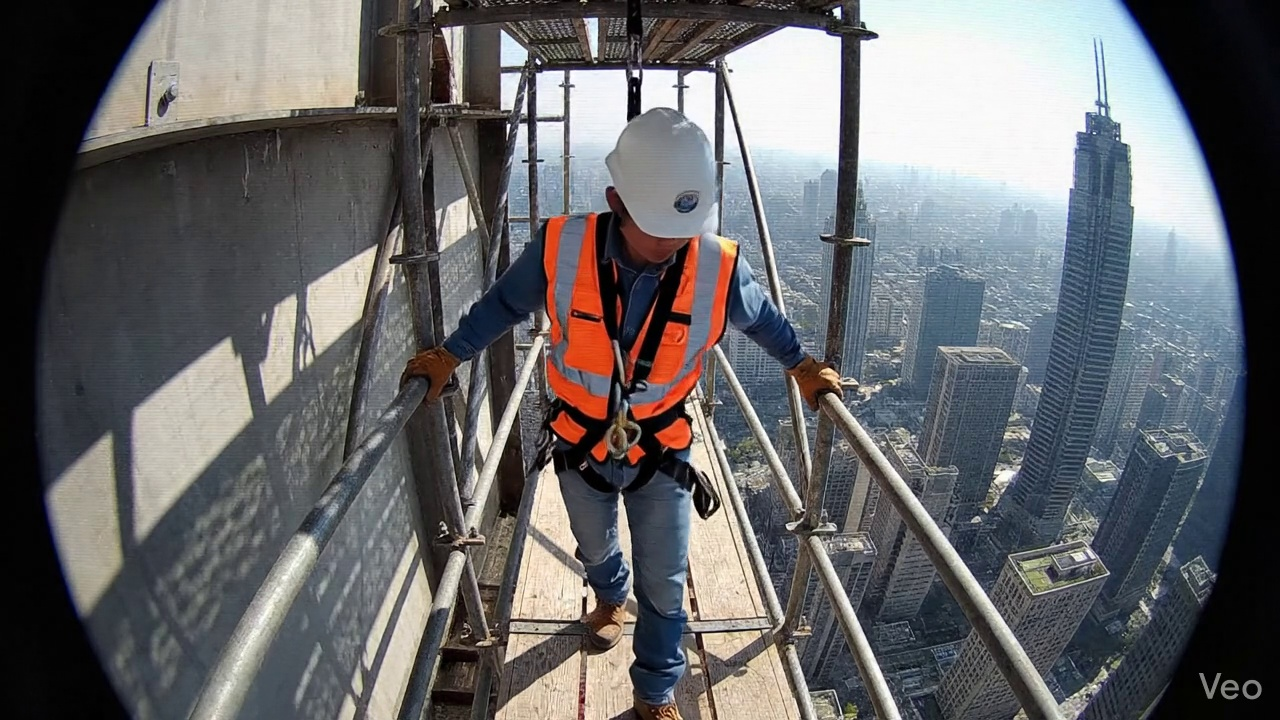person: (402, 108, 840, 719)
